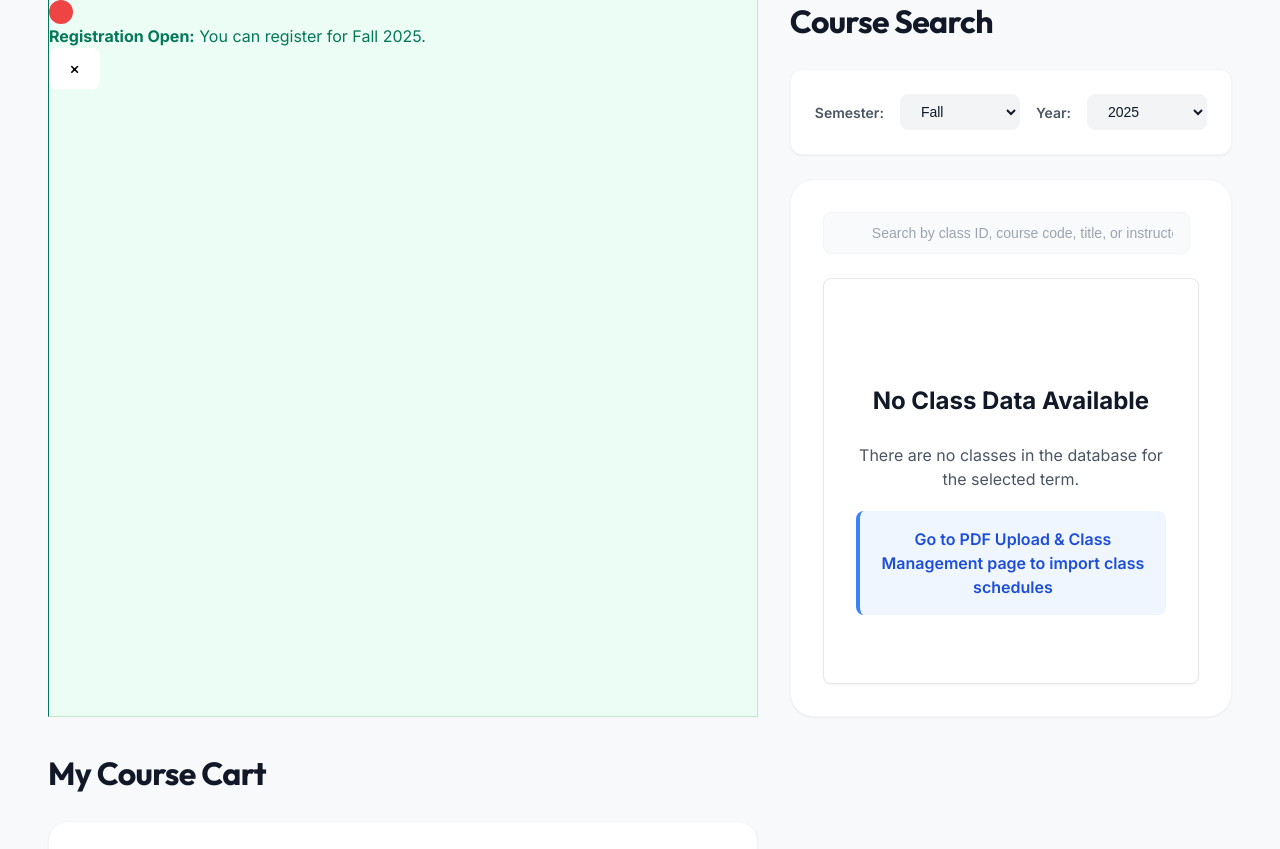
CourseRegistration › pagination with many results
The width and height of the screenshot is (1280, 849).
Type "CSE" into the field with placeholder "Search by class ID, course code, title, or instructor..." at [1006, 233], box top-left (823, 212), bottom-right (1190, 254)
(page scrolled)
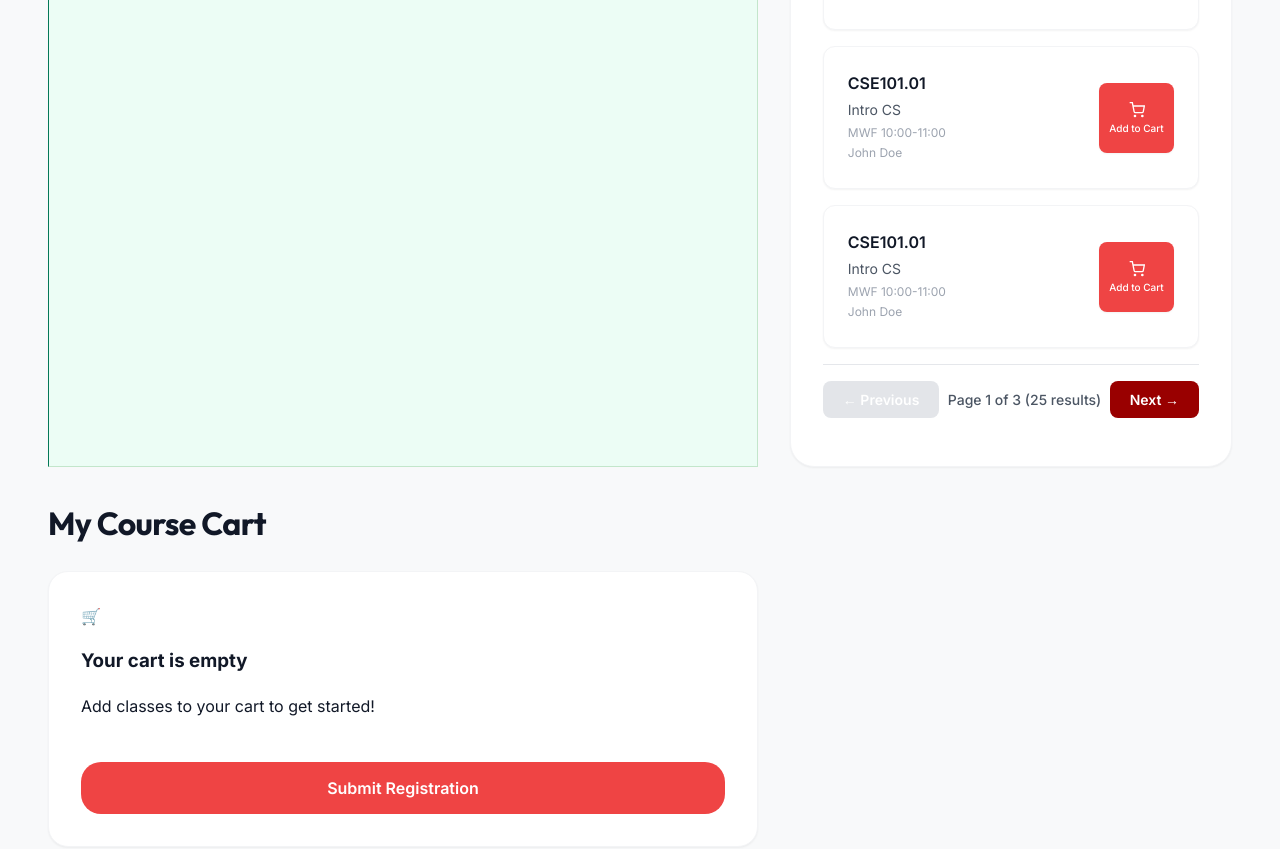
Result: the button "Next →" is shown at top-left (1110, 381), bottom-right (1199, 418)
